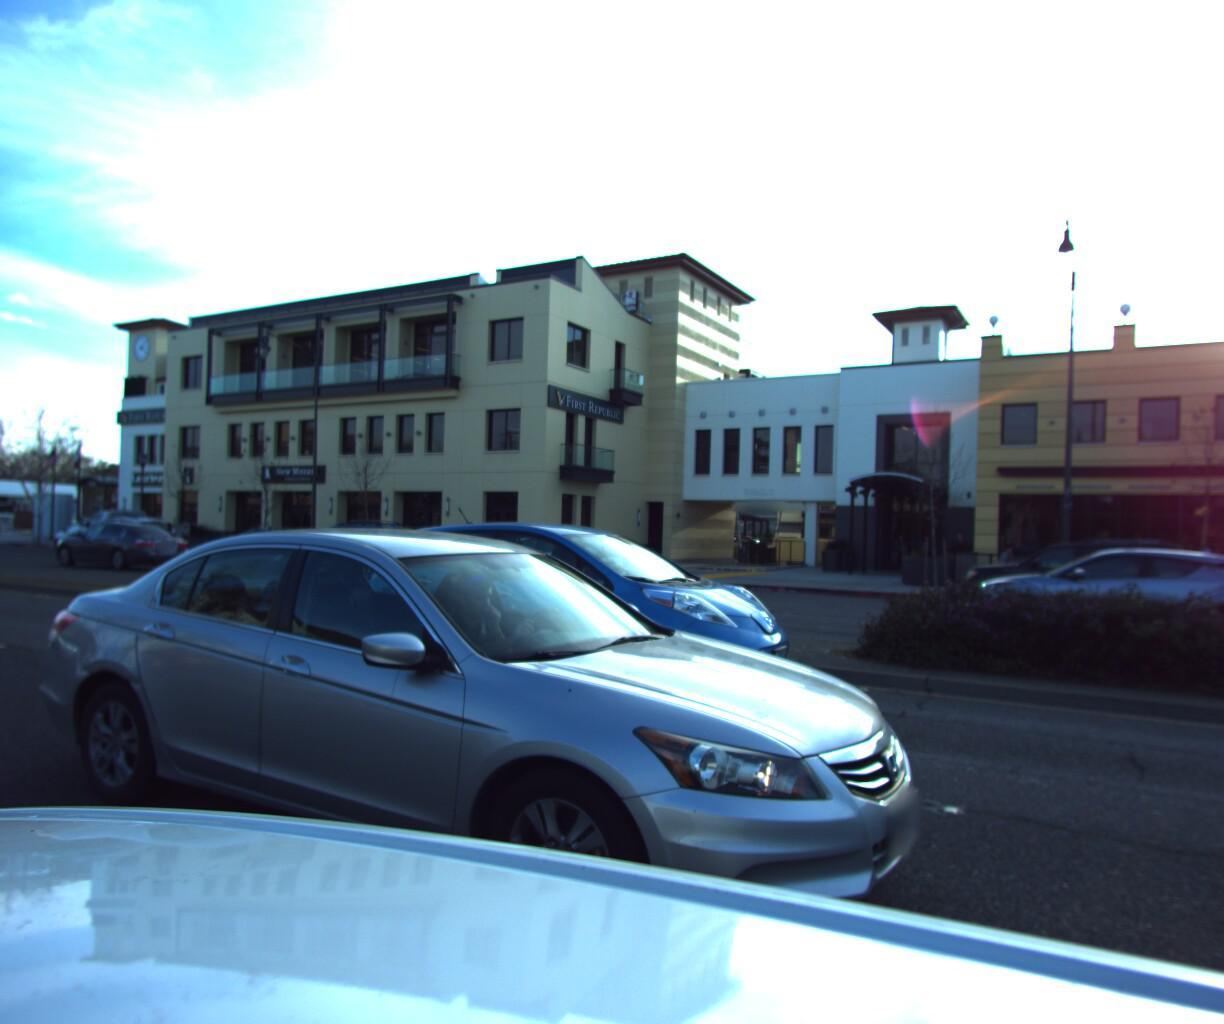car: (6, 522, 966, 1024), (354, 511, 823, 725), (947, 538, 1224, 667), (959, 528, 1207, 623), (251, 510, 445, 592), (41, 511, 194, 574), (359, 525, 500, 575), (60, 504, 190, 555), (60, 508, 180, 558), (211, 517, 312, 558), (45, 514, 119, 547)
